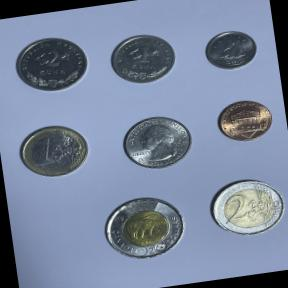1 Euro: (12, 118, 94, 184)
2 Euro: (204, 172, 288, 242)
Canda-10cent-: (199, 23, 262, 75)
Canda-2Dollar-: (96, 188, 192, 267)
Croatia-2Kune-: (9, 29, 94, 99)
US-1cent-: (212, 95, 276, 147)
US-25cent-: (114, 107, 199, 176)
